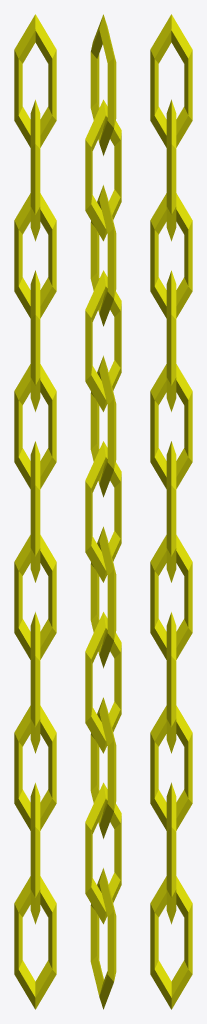
Rendered from Chain0.glb.
3 renders of one model, left to right at view 1: azimuth 90°, elevation 25°; view 2: azimuth 210°, elevation 25°; view 3: azimuth 270°, elevation 25°, orthographic.
Parts seen in each view (by area): view 1: Chain 2; view 2: Chain 2; view 3: Chain 2.
Boxes of the visible parts, bbox=[...] form: Chain 2: bbox=[14, 14, 56, 1009]; Chain 2: bbox=[85, 14, 121, 1009]; Chain 2: bbox=[150, 14, 192, 1009].
Size of the model in its own units: 0.0645 by 1.68 by 0.0645.
Materials: 1 (1 with a texture image).
